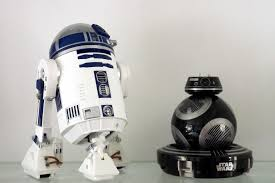r2d2: (22, 22, 126, 182)
